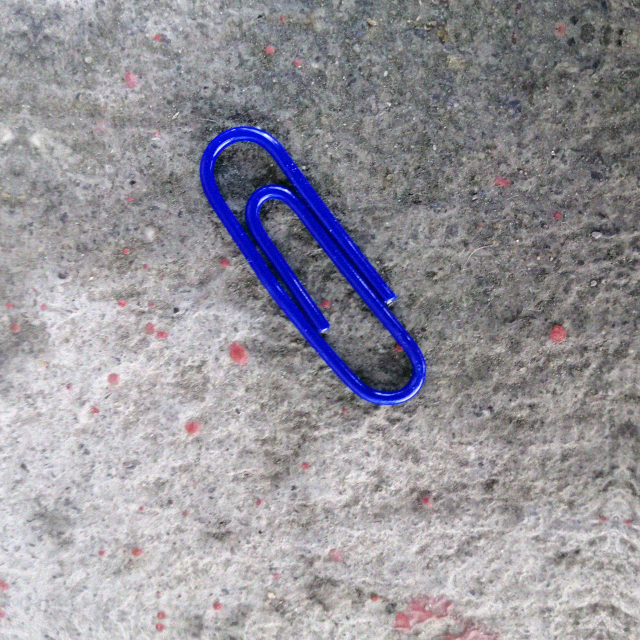pin: (176, 112, 450, 411)
